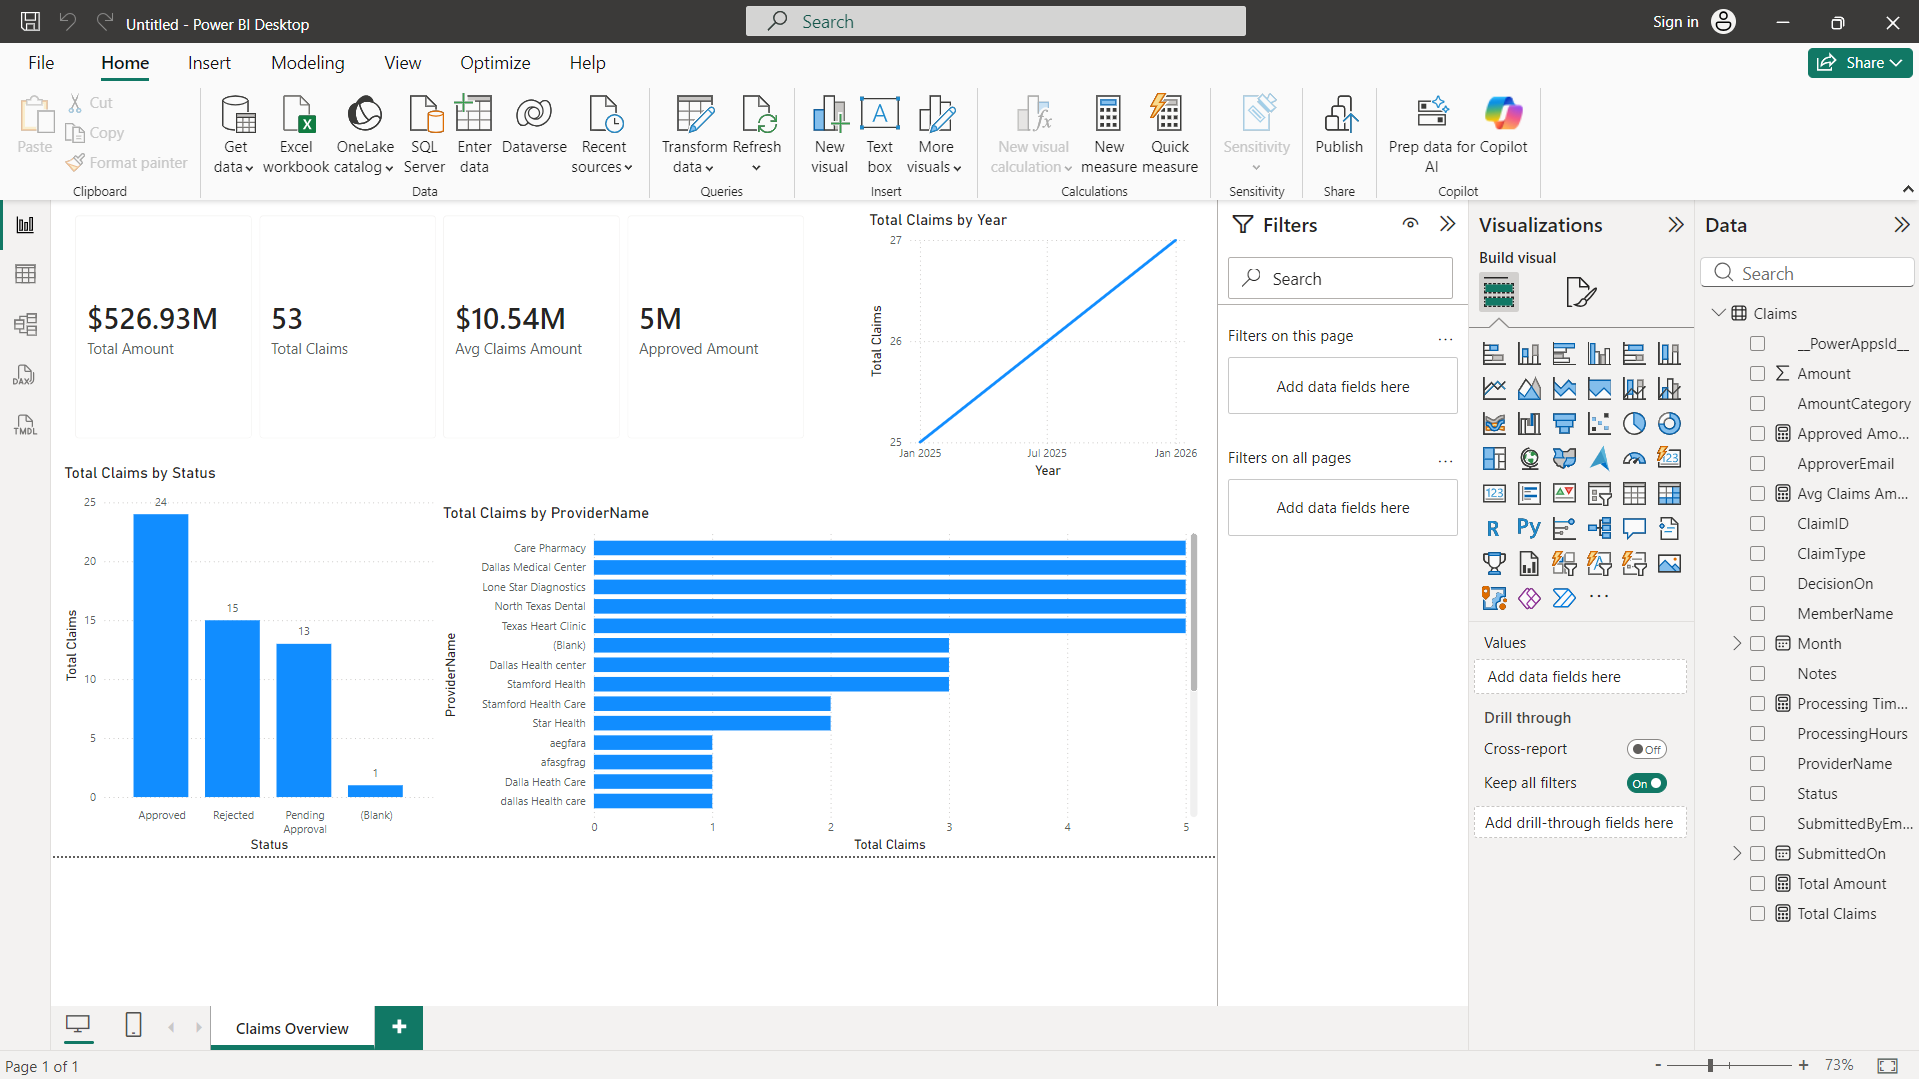

What the dashboard file says about the page in this screenshot:
{"tool":"powerbi","page":{"name":"Claims Overview","canvas":[1280,720],"ordinal":0},"visuals":[{"type":"cardVisual","fields":{"Data":["Claims.Total Amount","Claims.Total Claims","Claims.Avg Claims Amount","Claims.Approved Amount"]},"box":[9.6,0,835.7,279.9],"z":0},{"type":"clusteredColumnChart","fields":{"Category":["Claims.Status"],"Y":["Claims.Total Claims"]},"box":[9.6,289.5,415.8,430.9],"z":1},{"type":"clusteredBarChart","fields":{"Category":["Claims.ProviderName"],"Y":["Claims.Total Claims"]},"box":[425.4,333.4,838.4,387],"z":2},{"type":"lineChart","fields":{"Category":["Claims.SubmittedOn.Variation.Date Hierarchy.Year","Claims.SubmittedOn.Variation.Date Hierarchy.Quarter","Claims.SubmittedOn.Variation.Date Hierarchy.Month","Claims.SubmittedOn.Variation.Date Hierarchy.Day"],"Y":["Claims.Total Claims"]},"box":[893.3,11,370.5,299.1],"z":3}]}

Visuals, with their boxes on the page's 1280x720 design canvas (x1, y1, x2, y2). These are canvas units, not pixel positions in the 1919x1079 screenshot, which may show the page scaled, cropped or inside an application window:
cardVisual - Claims.Total Amount x Claims.Total Claims: bbox(10, 0, 845, 280)
clusteredColumnChart - Claims.Status x Claims.Total Claims: bbox(10, 290, 425, 720)
clusteredBarChart - Claims.ProviderName x Claims.Total Claims: bbox(425, 333, 1264, 720)
lineChart - Claims.SubmittedOn.Variation.Date Hierarchy.Year x Claims.SubmittedOn.Variation.Date Hierarchy.Quarter: bbox(893, 11, 1264, 310)
